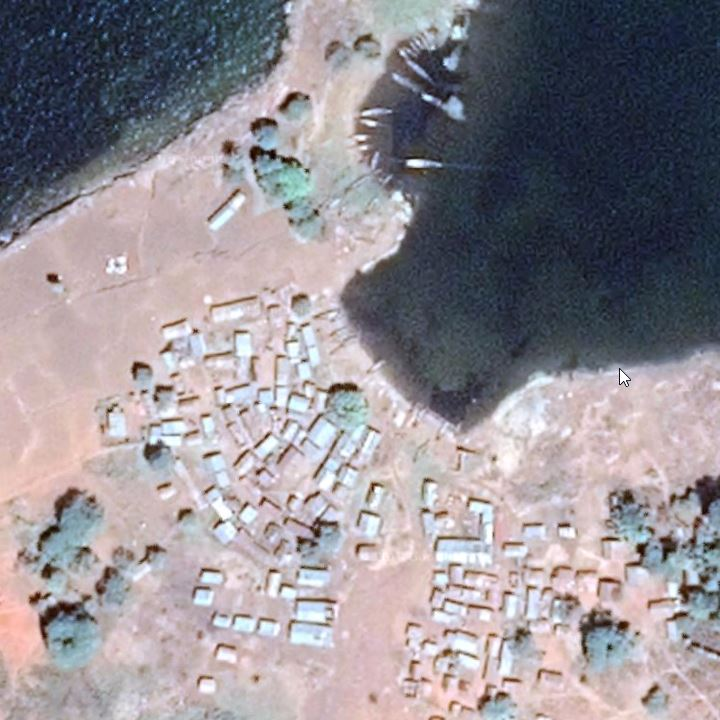boat: (362, 174, 396, 217), (400, 60, 436, 87), (388, 69, 421, 97), (398, 155, 449, 173), (329, 331, 364, 357), (409, 434, 434, 467), (309, 304, 352, 323), (401, 395, 421, 435), (344, 172, 373, 195), (435, 414, 455, 447), (417, 93, 447, 115), (412, 25, 434, 53), (357, 104, 397, 119), (327, 323, 353, 346), (362, 356, 387, 379), (352, 118, 389, 133), (399, 37, 421, 60), (326, 191, 347, 215), (414, 404, 432, 432), (365, 148, 386, 171), (397, 44, 416, 62)
